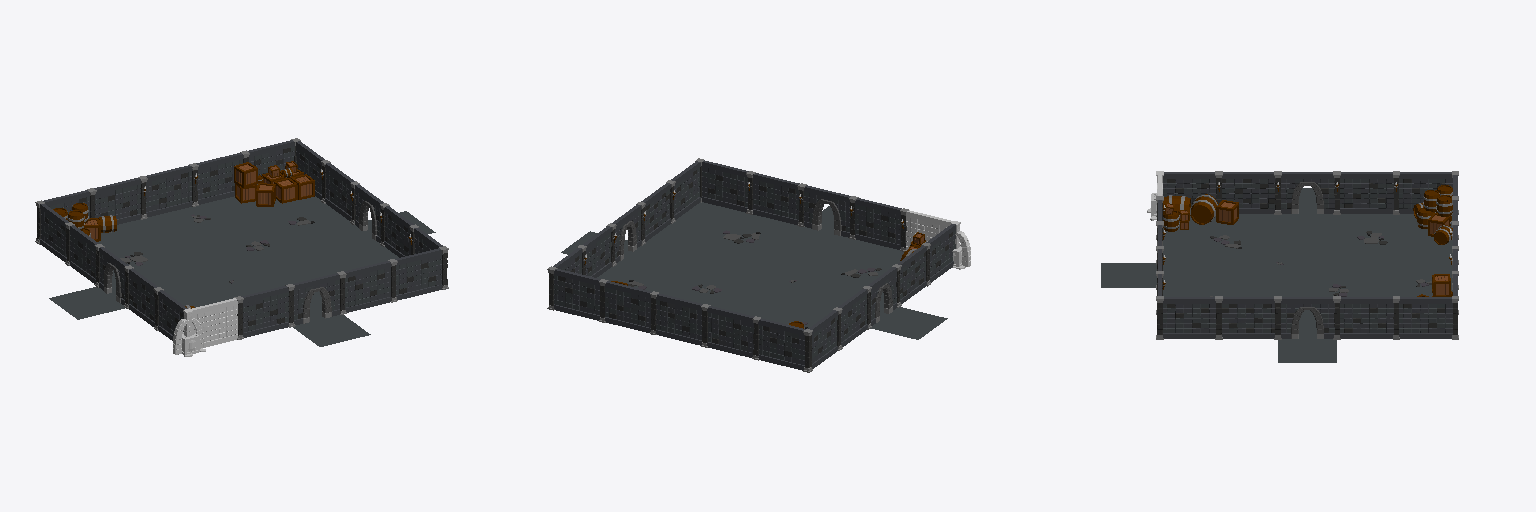
3 views of the same model, side by side, from view 1: azimuth 30°, elevation 25°; view 2: azimuth 150°, elevation 25°; view 3: azimuth 270°, elevation 25° (orthographic).
Visible parts, largest first — view 1: Wall_A.004_Cube.008, Wall_A.001_Cube.008, Wall_A.002_Cube.008, Wall_A.010_Cube.008, Doorway.001_Plane.008, Wall_A.009_Cube.008, Wall_A.011_Cube.008, Wall_Mirror_Plane, Floor.006_Plane.003, Floor.010_Plane.003, Floor.011_Plane.003, Floor.014_Plane.003 (+25 smaller); view 2: Wall_A.010_Cube.008, Wall_A.009_Cube.008, Wall_A.011_Cube.008, Wall_A.008_Cube.008, Wall_A.002_Cube.008, Wall_A.001_Cube.008, Wall_A.012_Cube.008, Doorway.001_Plane.008, Wall_A.004_Cube.008, Floor.006_Plane.003, Floor.009_Plane.003, Floor.010_Plane.003 (+25 smaller); view 3: Wall_A.003_Cube.008, Wall_A.016_Cube.008, Wall_A.007_Cube.008, Wall_A.014_Cube.008, Doorway.002_Plane.008, Doorway.003_Plane.008, Wall.001_Plane.004, Wall.002_Plane.004, Wall_A.013_Cube.008, Floor.009_Plane.003, Floor.006_Plane.003, Floor.011_Plane.003 (+16 smaller).
Part boxes in pixels (x1,y1,x2,y2): Wall_A.004_Cube.008: (395,246,448,299); Wall_A.001_Cube.008: (234,286,288,339); Wall_A.002_Cube.008: (344,259,397,312); Wall_A.010_Cube.008: (138,165,192,219); Doorway.001_Plane.008: (285,271,346,327); Wall_A.009_Cube.008: (189,153,243,206); Wall_A.011_Cube.008: (87,178,141,224); Wall_Mirror_Plane: (192,298,237,347); Floor.006_Plane.003: (151,261,228,294); Floor.010_Plane.003: (203,250,281,281); Floor.011_Plane.003: (173,227,247,260); Floor.014_Plane.003: (254,236,333,269); Wall_A.010_Cube.008: (656,293,710,347); Wall_A.009_Cube.008: (605,281,658,334); Wall_A.011_Cube.008: (707,306,760,360); Wall_A.008_Cube.008: (554,269,608,322); Wall_A.002_Cube.008: (746,171,799,224); Wall_A.001_Cube.008: (855,198,908,251); Wall_A.012_Cube.008: (758,318,812,371); Doorway.001_Plane.008: (797,183,858,239); Wall_A.004_Cube.008: (695,158,748,212); Floor.006_Plane.003: (765,282,844,314); Floor.009_Plane.003: (744,247,823,279); Floor.010_Plane.003: (718,269,793,302); Wall_A.003_Cube.008: (1163,296,1222,339); Wall_A.016_Cube.008: (1399,296,1458,339); Wall_A.007_Cube.008: (1340,296,1399,339); Wall_A.014_Cube.008: (1340,171,1399,214); Doorway.002_Plane.008: (1274,296,1340,339); Doorway.003_Plane.008: (1274,171,1340,214); Wall.001_Plane.004: (1222,297,1274,338); Wall.002_Plane.004: (1222,172,1275,213); Wall_A.013_Cube.008: (1163,171,1222,205); Floor.009_Plane.003: (1219,263,1277,287); Floor.006_Plane.003: (1278,238,1336,262); Floor.011_Plane.003: (1337,263,1395,287).
Size of the model in its own units: 28 by 3.07 by 24.26.
8 materials, 1 textured.